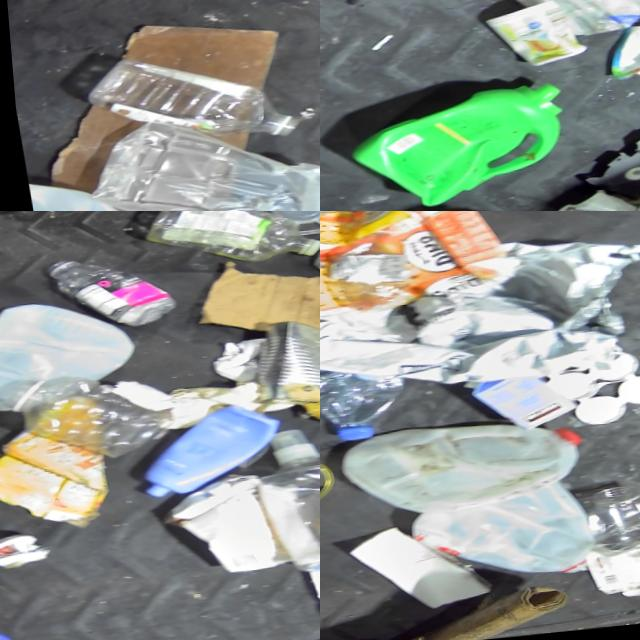can: (242, 308, 320, 436)
milk_jug: (331, 416, 587, 518), (400, 477, 586, 599), (0, 294, 132, 416), (18, 166, 173, 211), (484, 0, 640, 44)
non_white_jug: (335, 78, 570, 211), (135, 402, 288, 502)
plastic_bottle: (74, 41, 306, 157), (128, 211, 320, 277), (320, 342, 400, 445)
